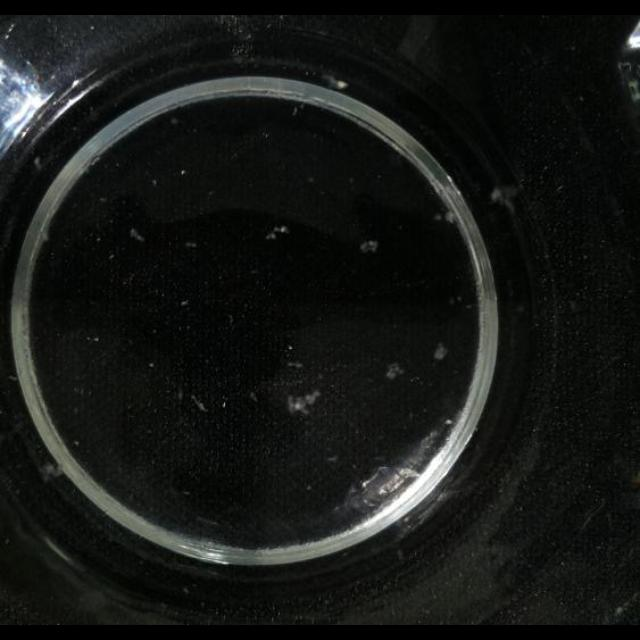Fibre: (288, 390, 320, 416), (490, 184, 520, 210), (384, 362, 404, 380), (266, 226, 288, 240), (190, 395, 207, 413), (358, 240, 378, 254), (433, 344, 449, 361), (130, 228, 144, 242)
